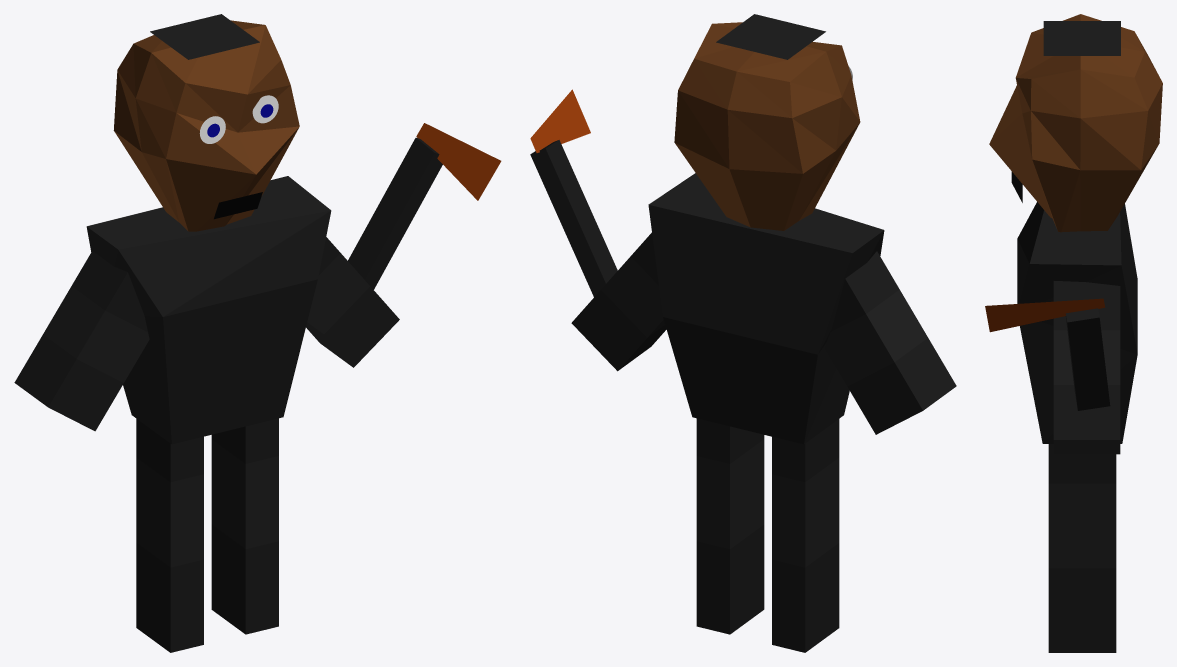
Rendered from axeman2f.obj.
3 views of the same model, side by side, from view 1: azimuth 30°, elevation 25°; view 2: azimuth 150°, elevation 25°; view 3: azimuth 270°, elevation 25° (orthographic).
Visible parts, largest first — view 1: Cube.001, Cube, Cube.004, Cube.005, Cube.003, Cube.002, Cube.007, Plane.002, Plane.001, Plane; view 2: Cube.001, Cube, Cube.004, Cube.005, Cube.003, Cube.002, Cube.007, Plane.002, Plane.001; view 3: Cube, Cube.005, Cube.001, Cube.002, Cube.007, Plane.002, Plane.001.
Part boxes in pixels (x1,y1,x2,y2): Cube.001: [86, 176, 331, 444]; Cube: [113, 20, 299, 231]; Cube.004: [136, 419, 203, 652]; Cube.005: [211, 418, 278, 634]; Cube.003: [14, 251, 149, 431]; Cube.002: [306, 237, 399, 367]; Cube.007: [348, 137, 442, 289]; Plane.002: [150, 14, 259, 59]; Plane.001: [416, 123, 501, 200]; Plane: [214, 192, 262, 219]; Cube.001: [648, 173, 884, 444]; Cube: [674, 22, 860, 230]; Cube.004: [772, 419, 839, 652]; Cube.005: [696, 418, 764, 634]; Cube.003: [825, 251, 956, 434]; Cube.002: [571, 232, 666, 371]; Cube.007: [530, 140, 617, 296]; Plane.002: [716, 14, 825, 59]; Plane.001: [530, 89, 590, 152]; Cube: [989, 14, 1162, 232]; Cube.005: [1048, 444, 1116, 652]; Cube.001: [1017, 202, 1137, 443]; Cube.002: [1053, 281, 1120, 454]; Cube.007: [1065, 308, 1110, 410]; Plane.002: [1043, 21, 1120, 55]; Plane.001: [985, 298, 1105, 332].
Size of the model in its own units: 4.35 by 5.87 by 1.61.
